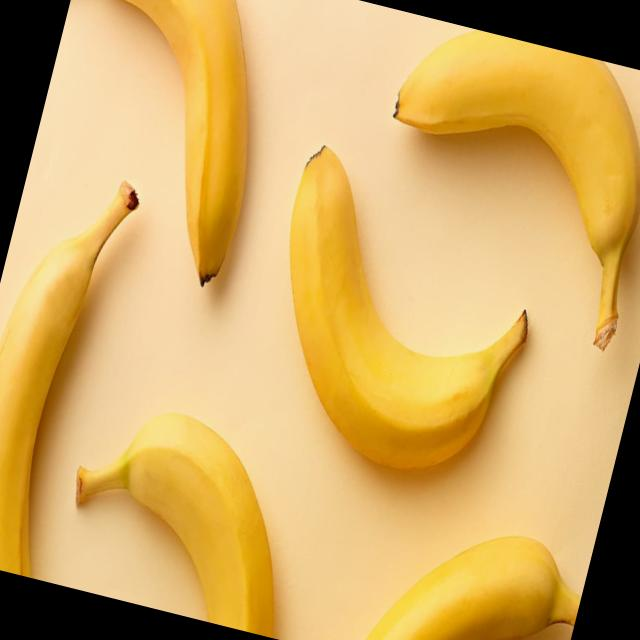banana: (216, 140, 563, 515), (343, 13, 640, 357), (8, 0, 299, 301), (50, 374, 351, 640), (0, 160, 163, 581), (357, 479, 596, 640)
